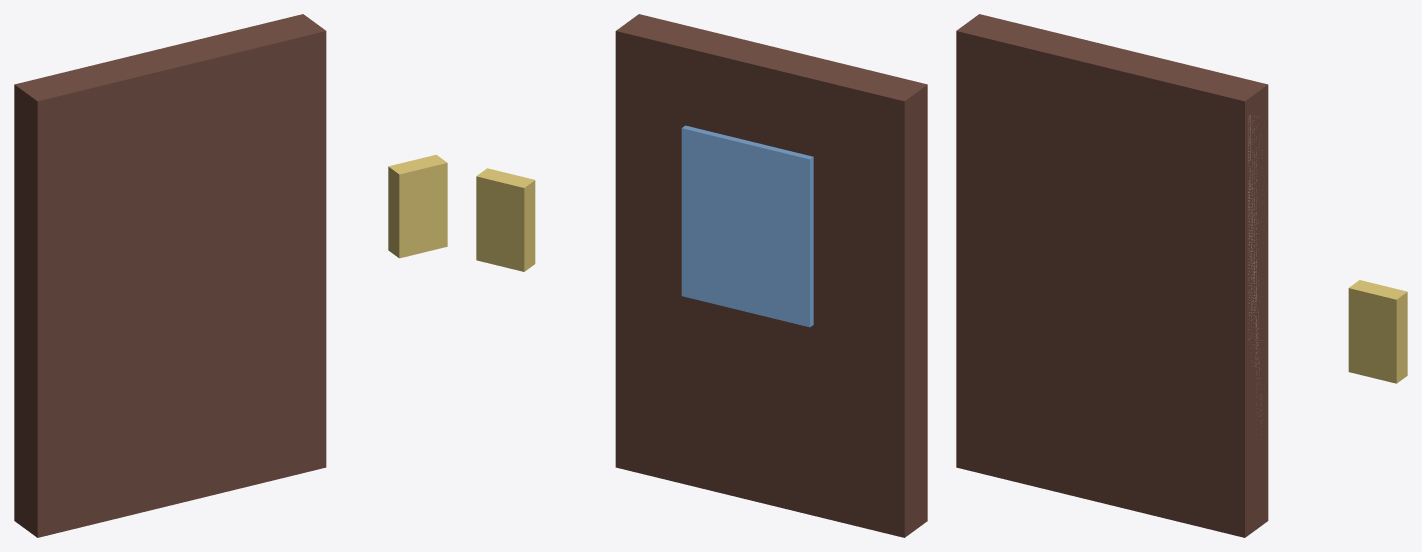
File: tom_riddle_diary.glb
3 renders of one model, left to right at view 1: azimuth 30°, elevation 25°; view 2: azimuth 150°, elevation 25°; view 3: azimuth 330°, elevation 25°, orthographic.
Visible parts, largest first — view 1: cover, clasp; view 2: cover, glyph, clasp; view 3: cover, clasp.
Boxes of the visible parts, left/top/right/bottom form: cover: left=14, top=14, right=326, bottom=537; clasp: left=388, top=154, right=447, bottom=258; cover: left=615, top=14, right=927, bottom=537; glyph: left=681, top=125, right=813, bottom=327; clasp: left=476, top=168, right=535, bottom=271; cover: left=956, top=14, right=1268, bottom=537; clasp: left=1348, top=280, right=1407, bottom=383.
Bounding box in the file's own units: 0.265 × 0.26 × 0.0405.
